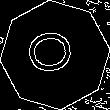O_E: (28, 31, 82, 79)
